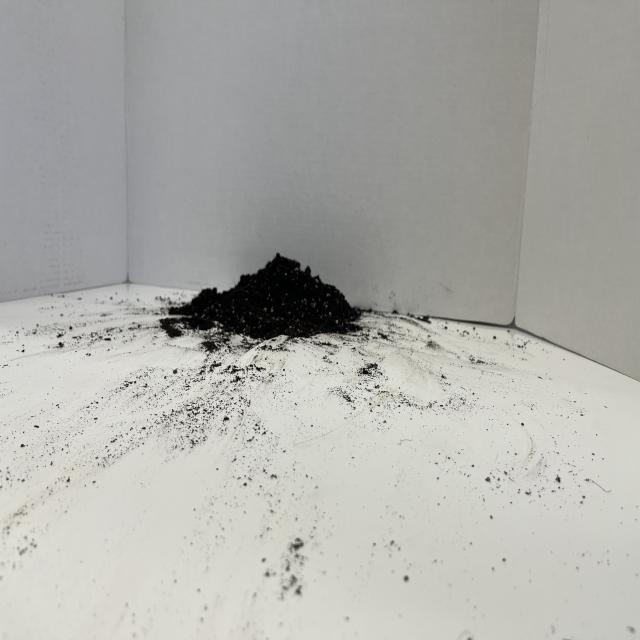soil: (158, 250, 362, 348)
